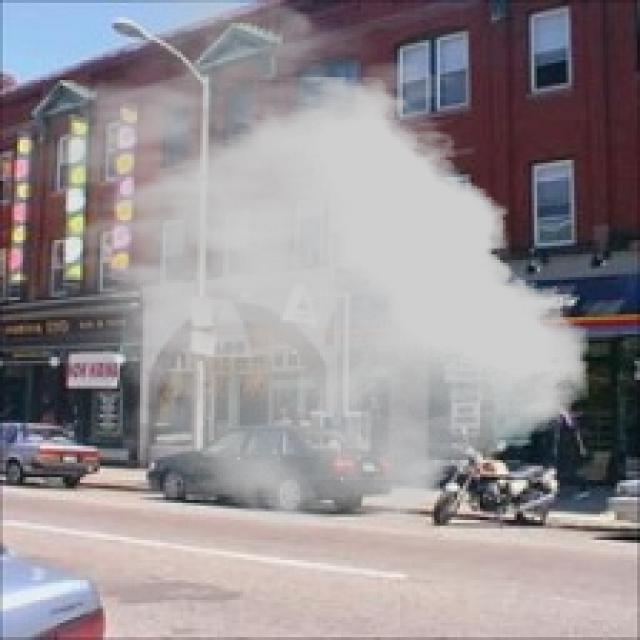smoke: (22, 0, 589, 532)
